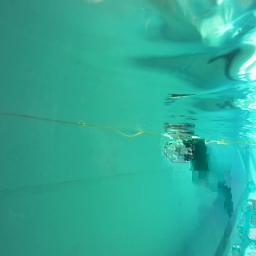Full: (165, 141, 204, 164), (164, 136, 195, 164)
